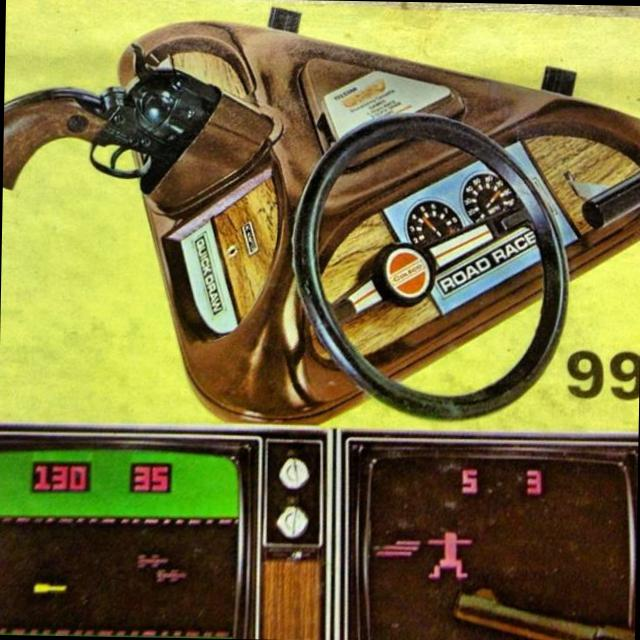Gun: (3, 44, 226, 194)
